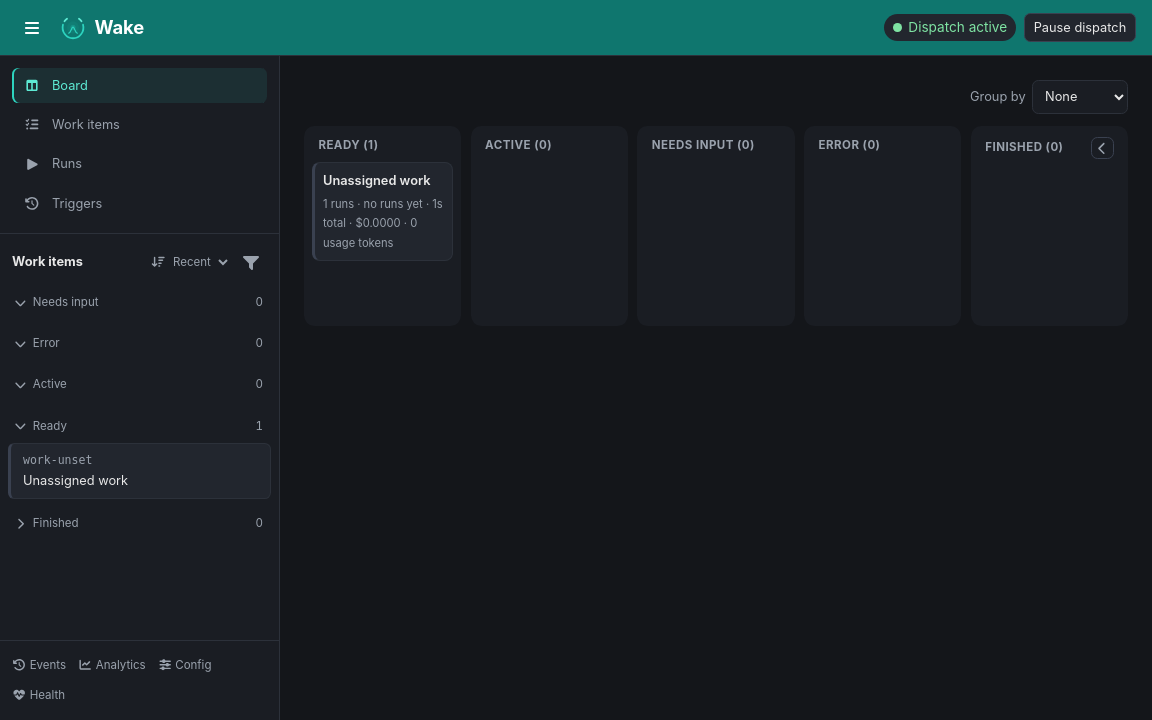
Test case: board › buckets items missing a workflow or stage under a fallback swimlane
Expected: the list item "Unassigned work" is shown, [312,162,453,261]
Select "Stage" in the dropdown labelled "Group by" at point(1080, 97), box [1032,80,1128,114]
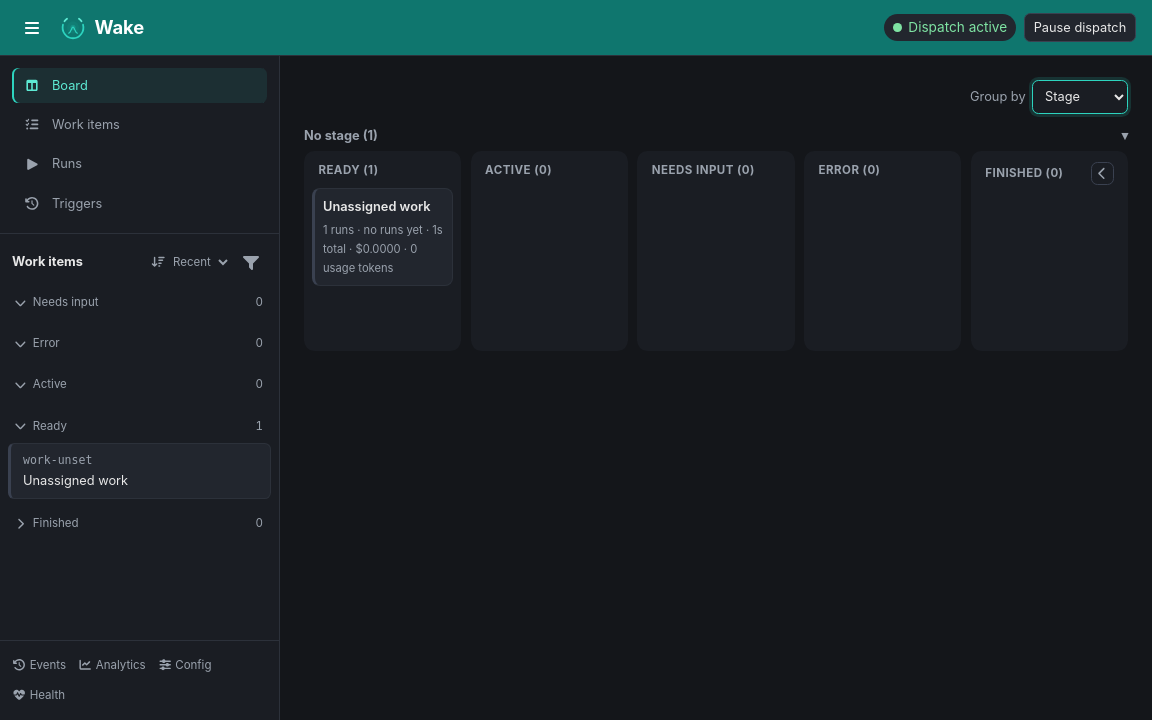
Expected: the heading "No stage (1) ▾" is shown, [304,126,1128,145]
